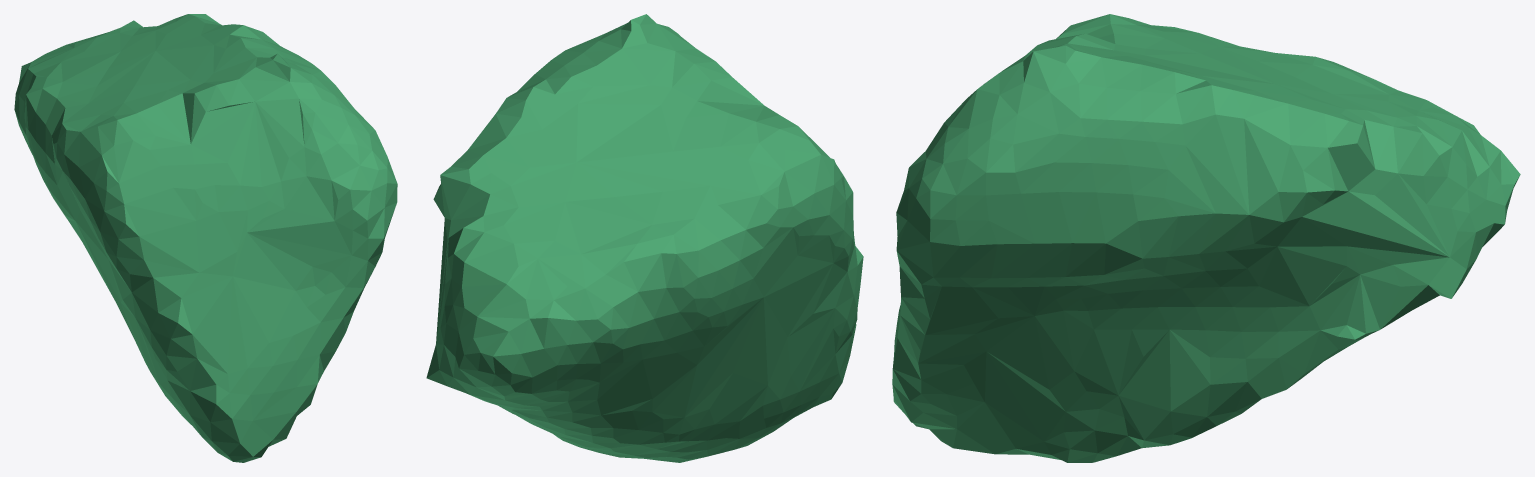
The model's file is Model_10137_LH__Temporal_proisocortex_(TPro).obj.
3 views of the same model, side by side, from view 1: azimuth 30°, elevation 25°; view 2: azimuth 150°, elevation 25°; view 3: azimuth 270°, elevation 25° (orthographic). The views are drawn at different scales.
Bounding box in the file's own units: 0.979 × 1.32 × 1.7.
